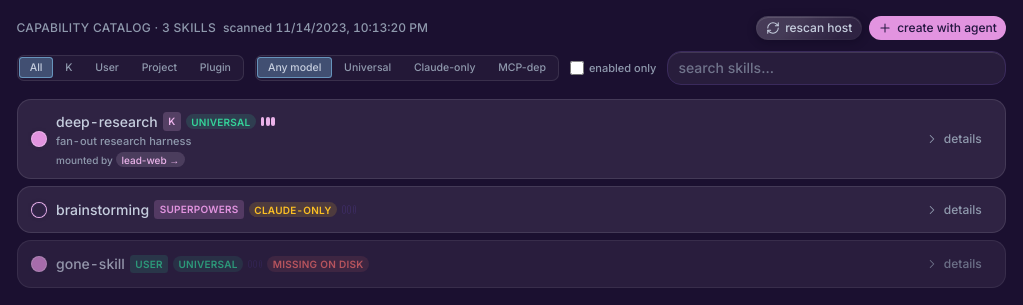
Test case: CatalogTab — filters › filtered-to-empty says so instead of rendering a void
Expected: the element with test id "catalog-row-deep-research" is shown, 16,99 -> 1006,179
Type "zzz-no-match" into the field with test id "catalog-search" at (836, 68), box 667,50 -> 1006,85
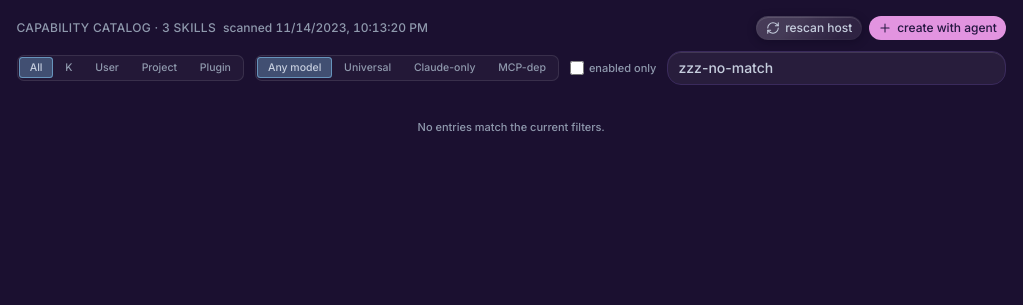
Expected: the text "No entries match the current filters." is shown, 418,120 -> 604,134
